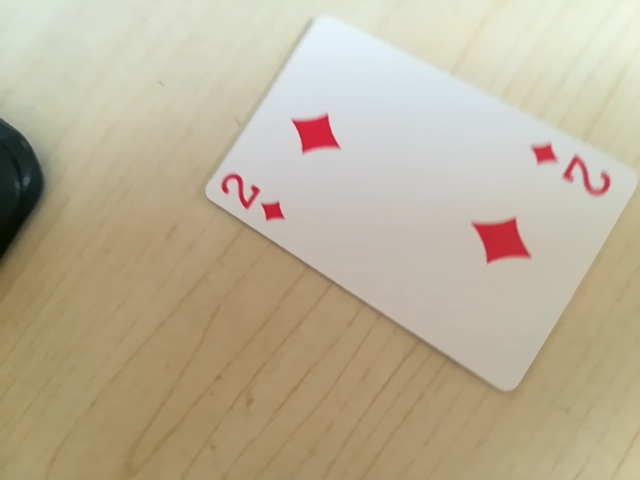fk 2: (527, 138, 616, 202), (213, 169, 286, 226)
